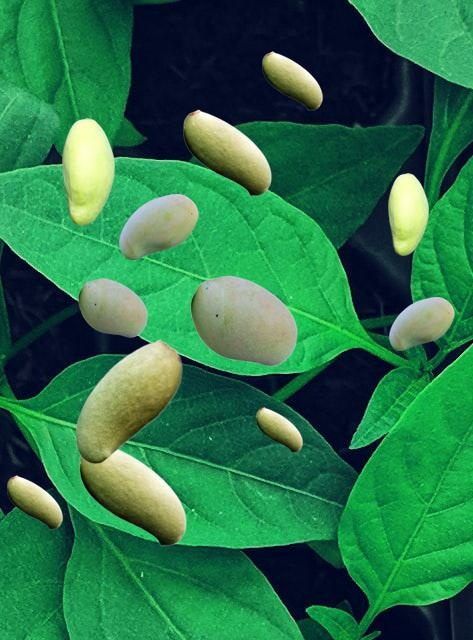green_mango: (75, 339, 181, 462), (79, 450, 185, 545), (190, 275, 296, 365), (183, 109, 270, 195), (62, 118, 113, 224), (119, 194, 197, 258), (78, 278, 146, 336), (262, 51, 321, 109), (389, 297, 453, 349), (388, 173, 427, 254), (7, 475, 61, 528), (256, 407, 301, 451)
